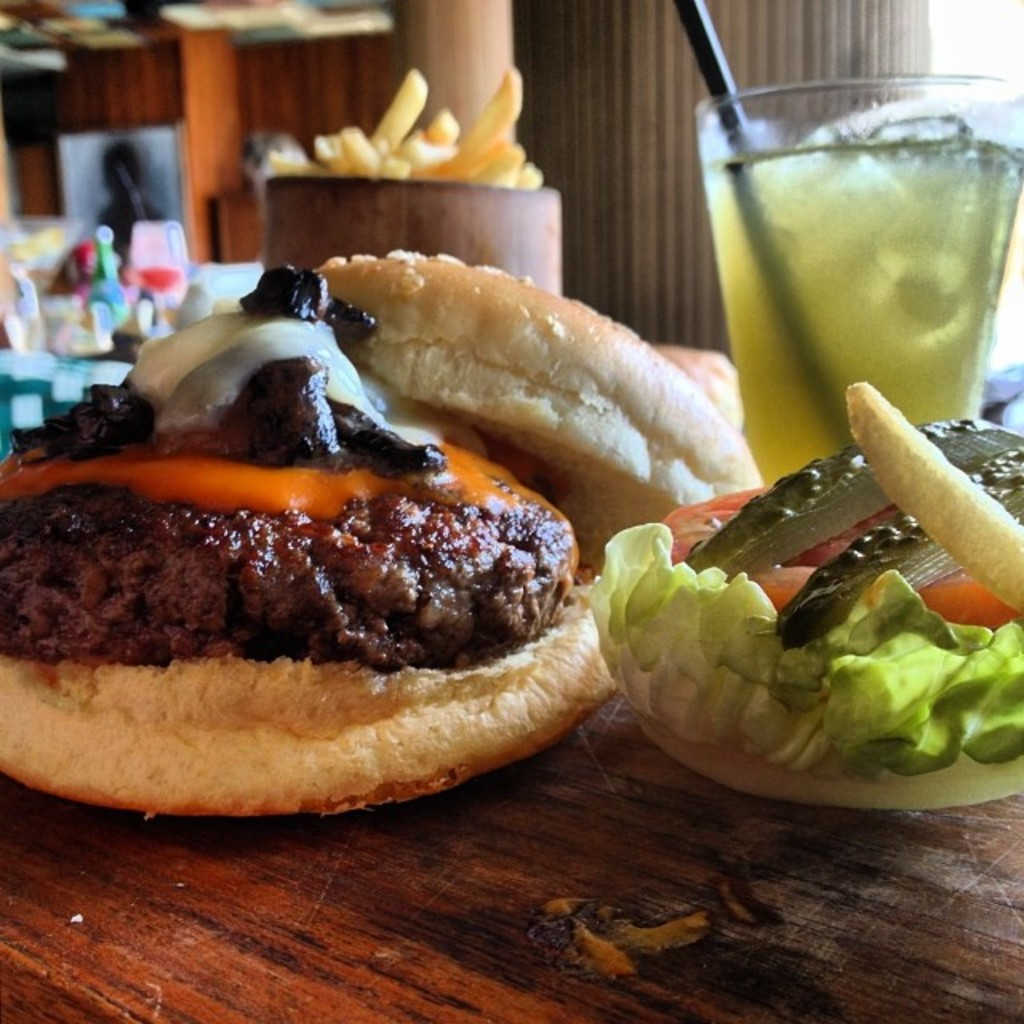Hamburger: (0, 241, 769, 817)
